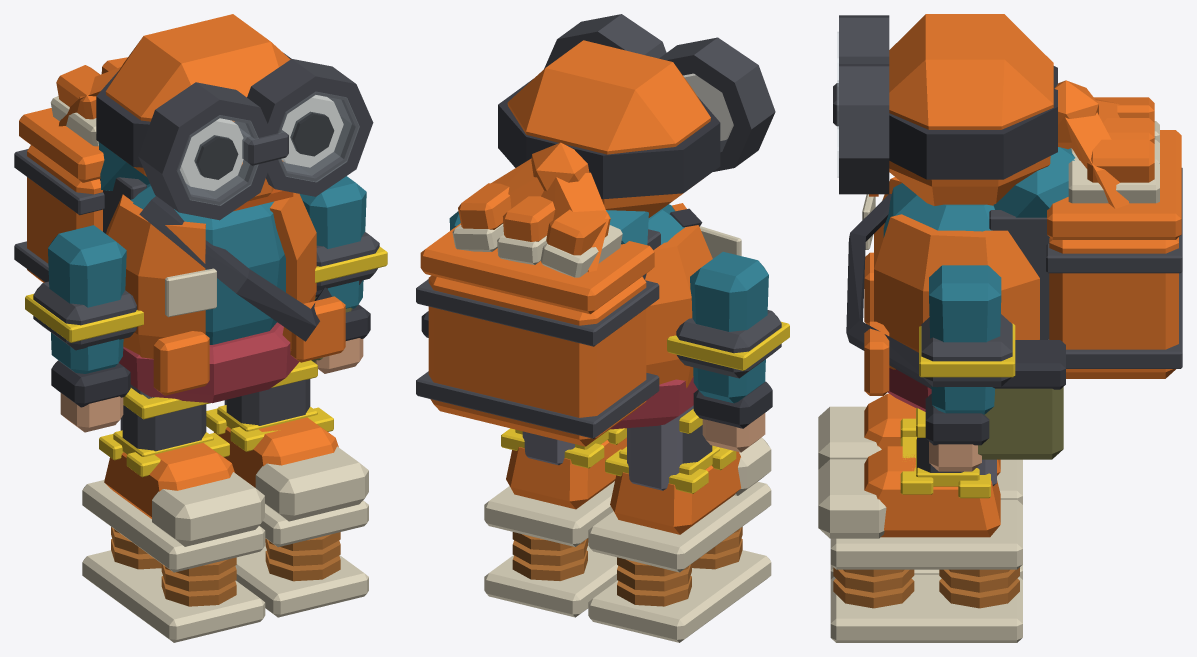
Rendered from PeterParkour.fbx.
The picture shows the model from 3 angles, left to right: view 1: azimuth 30°, elevation 25°; view 2: azimuth 150°, elevation 25°; view 3: azimuth 270°, elevation 25°; orthographic projection. The views are drawn at different scales.
Parts seen in each view (by area): view 1: GoggleRims, Vest, RightLegSole, Head, GoggleLens, LeftLegSole, Crate, Torso, RightArm, Shorts, RightLegToeCap, LeftLegToeCap (+29 smaller); view 2: Crate, Head, RightLegSole, CrateStraps, GoggleRims, LeftLegSole, GoggleStrap, RightArm, Vest, CrateUppers, RightLegShoe, BandanaKnot (+21 smaller); view 3: Head, Crate, LeftLegSole, Vest, GoggleRims, GoggleStrap, CrateStraps, LeftLegShoe, LeftArm, MessengerFlap, LeftLegSpring, MessengerBag (+16 smaller).
Part boxes in pixels (left/top/right/bottom): GoggleRims: left=138, top=59, right=373, bottom=220; Vest: left=106, top=192, right=345, bottom=395; RightLegSole: left=82, top=480, right=265, bottom=642; Head: left=105, top=14, right=290, bottom=176; GoggleLens: left=177, top=92, right=359, bottom=205; LeftLegSole: left=235, top=500, right=368, bottom=617; Crate: left=19, top=108, right=104, bottom=282; Torso: left=130, top=184, right=285, bottom=344; RightArm: left=48, top=225, right=126, bottom=373; Shorts: left=119, top=322, right=299, bottom=403; RightLegToeCap: left=152, top=472, right=264, bottom=546; LeftLegToeCap: left=255, top=446, right=368, bottom=521; Crate: left=420, top=223, right=654, bottom=446; Head: left=507, top=40, right=710, bottom=217; RightLegSole: left=588, top=481, right=771, bottom=642; CrateStraps: left=416, top=229, right=660, bottom=438; GoggleRims: left=544, top=14, right=775, bottom=171; LeftLegSole: left=484, top=481, right=617, bottom=617; GoggleStrap: left=498, top=78, right=720, bottom=199; RightArm: left=690, top=251, right=768, bottom=403; Vest: left=645, top=203, right=712, bottom=387; CrateUppers: left=458, top=183, right=610, bottom=255; RightLegShoe: left=610, top=451, right=740, bottom=534; BandanaKnot: left=491, top=142, right=609, bottom=271; Head: left=889, top=14, right=1053, bottom=205; Crate: left=1047, top=130, right=1181, bottom=378; LeftLegSole: left=830, top=499, right=1022, bottom=642; Vest: left=864, top=177, right=1039, bottom=395; GoggleRims: left=833, top=15, right=889, bottom=194; GoggleStrap: left=889, top=66, right=1057, bottom=179; CrateStraps: left=989, top=168, right=1182, bottom=368; LeftLegShoe: left=864, top=446, right=1000, bottom=537; LeftArm: left=929, top=265, right=1001, bottom=414; MessengerFlap: left=846, top=194, right=1065, bottom=389; LeftLegSpring: left=833, top=567, right=1019, bottom=608; MessengerBag: left=934, top=387, right=1063, bottom=459.
Bounding box in the file's own units: 3.98 × 6.4 × 3.79.
